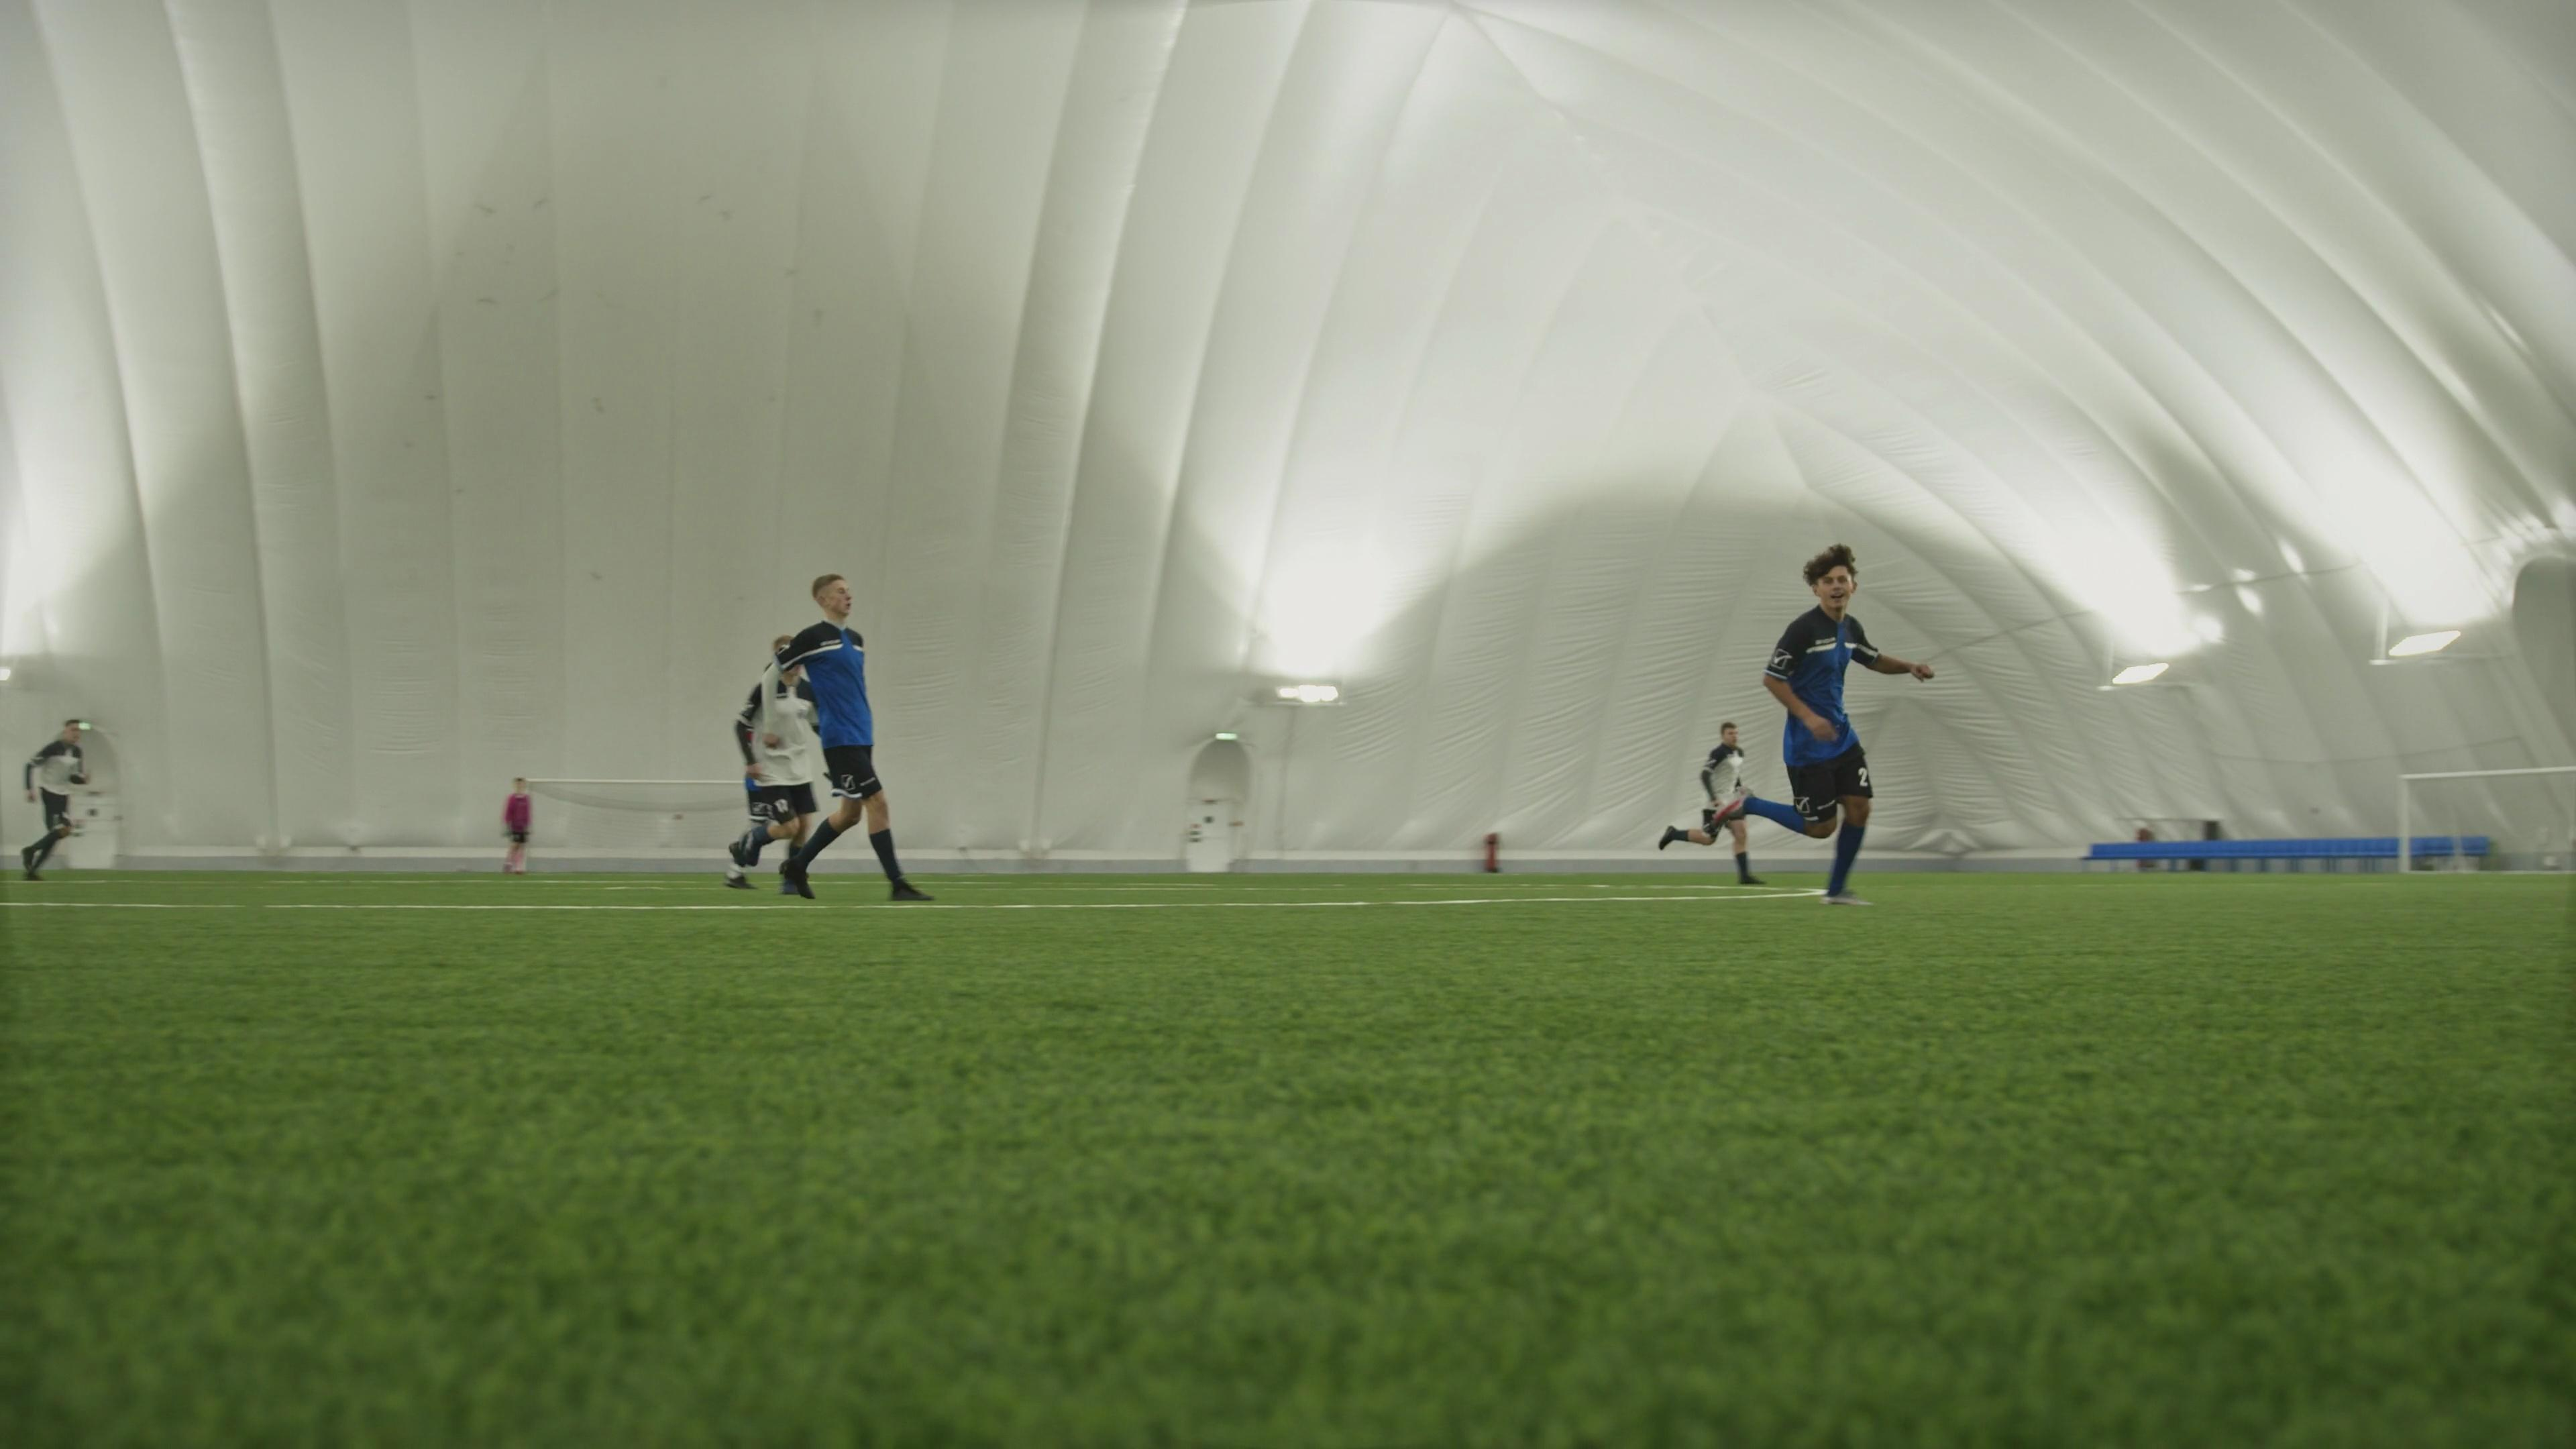team1: (1727, 545, 1939, 901), (763, 570, 924, 904)
team1gk: (499, 777, 534, 876)
team2: (722, 637, 816, 885), (1660, 722, 1755, 883), (16, 717, 103, 878)
